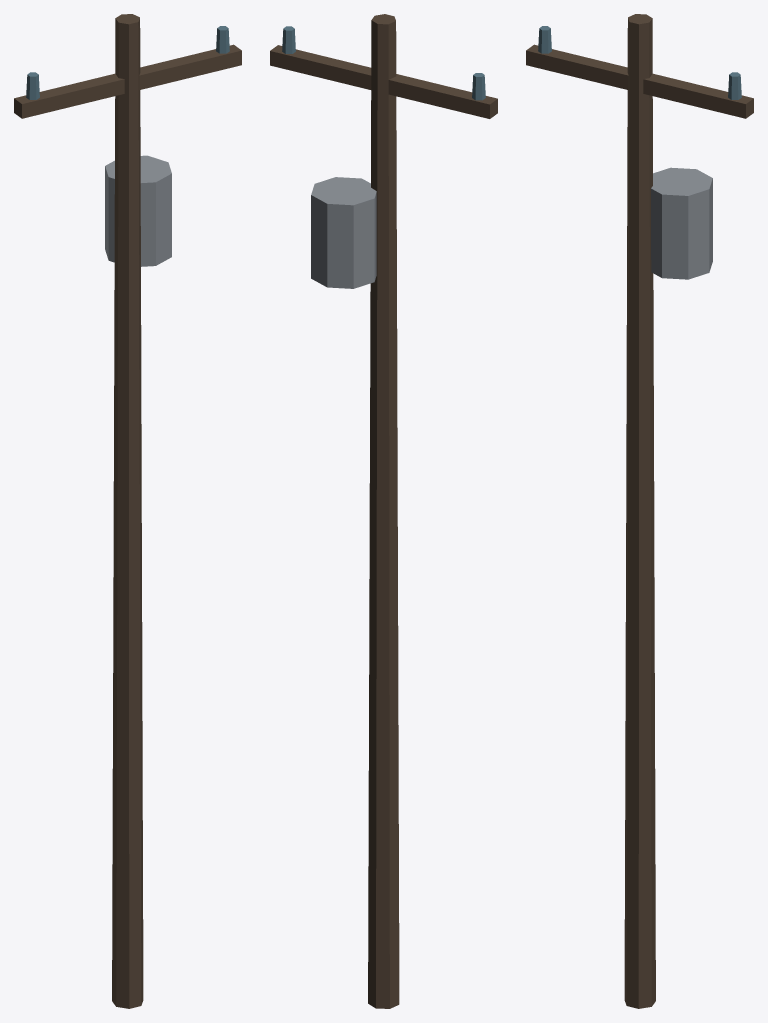
Rendered from hydro_pole.glb.
3 views of the same model, side by side, from view 1: azimuth 30°, elevation 25°; view 2: azimuth 150°, elevation 25°; view 3: azimuth 330°, elevation 25° (orthographic).
Parts seen in each view (by area): view 1: hydro_pole; view 2: hydro_pole; view 3: hydro_pole.
Boxes of the visible parts, x1,y1,x2,y2 form: hydro_pole: (14, 14, 241, 1008); hydro_pole: (270, 14, 497, 1008); hydro_pole: (526, 14, 753, 1008).
Bounding box in the file's own units: 2.2 × 9.4 × 0.6761.
